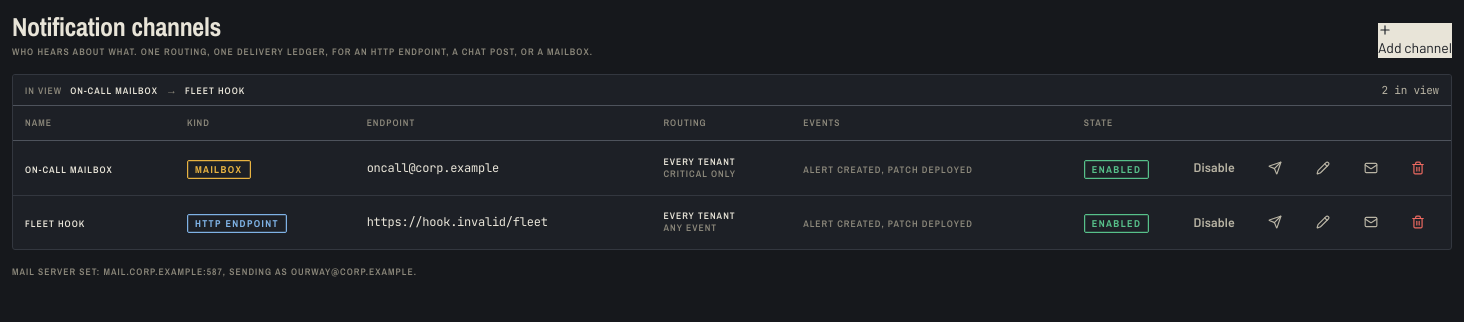
Test case: notification channel ledger › queues a test through the same routing and says where to read it
The width and height of the screenshot is (1464, 322).
Click the button named "Send a test" in the row of "https://hook.invalid/fleet" at (1275, 222), box [1255,205,1296,239]
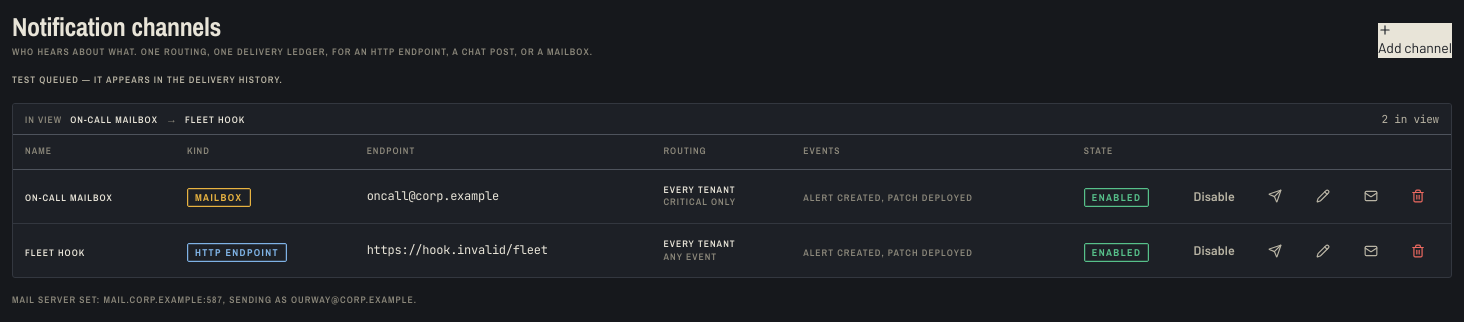
Expected: the message shows "delivery history", [12,73,283,86]
